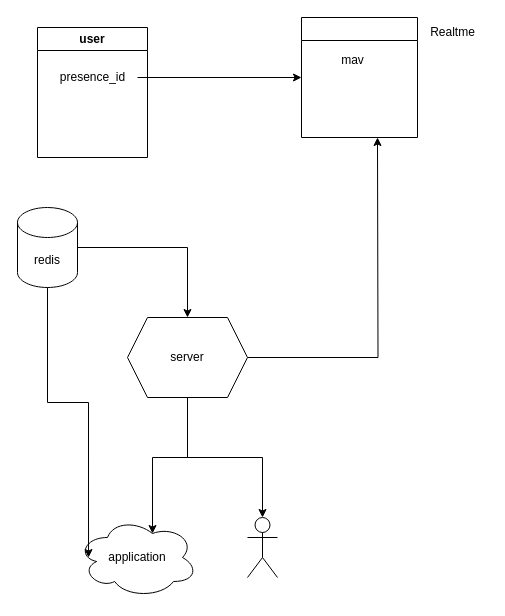
The diagram is 505 pixels wide and 616 high, and some of its shapes have lost their labels. Each missing label, with the box of its shape:
Actor: (246, 516, 278, 578)
user_presence: (300, 16, 418, 138)
